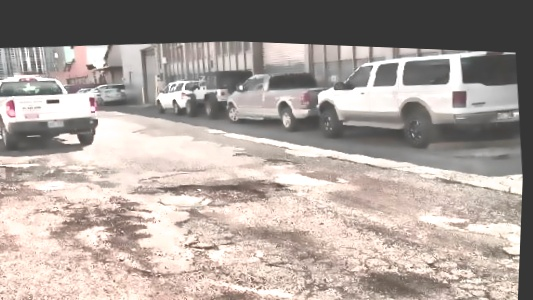pothole: (157, 175, 265, 206), (258, 178, 290, 195), (0, 159, 18, 172)
